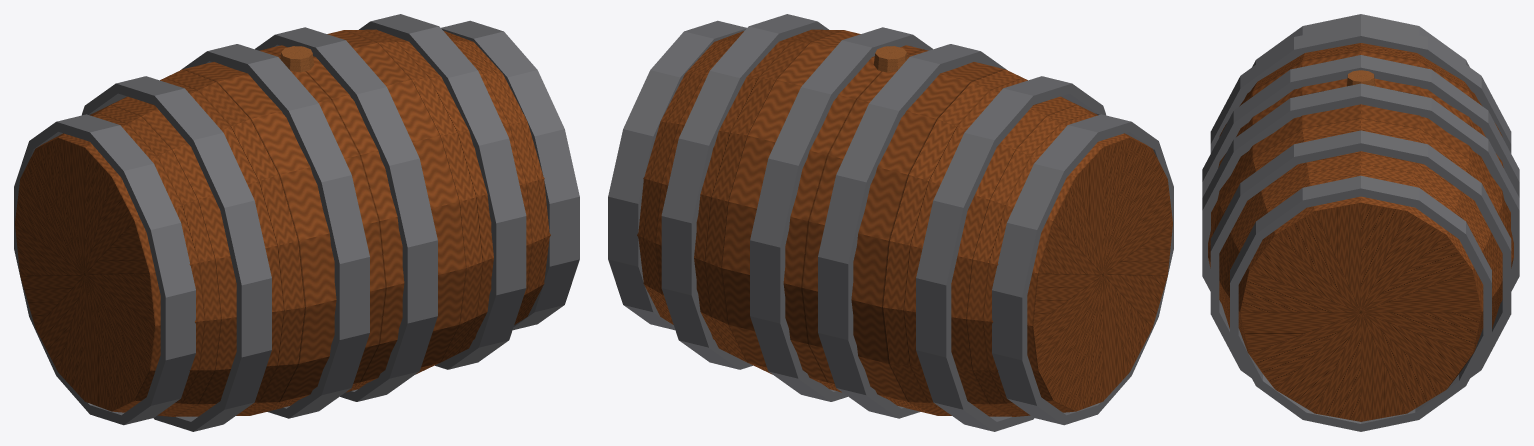
File: distillery-and-bonded-warehouse-cask-hogshead-c243d6b2__38689.glb
The picture shows the model from 3 angles, left to right: view 1: azimuth 30°, elevation 25°; view 2: azimuth 150°, elevation 25°; view 3: azimuth 270°, elevation 25°; orthographic projection. The views are drawn at different scales.
Parts seen in each view (by area): view 1: cask-hogshead-oak, cask-hogshead-iron, cask-hogshead-timber; view 2: cask-hogshead-oak, cask-hogshead-iron, cask-hogshead-timber; view 3: cask-hogshead-oak, cask-hogshead-iron, cask-hogshead-timber.
Part boxes in pixels (x1=…): cask-hogshead-oak: x1=15, y1=29, x2=550, y2=416; cask-hogshead-iron: x1=14, y1=14, x2=579, y2=431; cask-hogshead-timber: x1=280, y1=46, x2=314, y2=72; cask-hogshead-oak: x1=637, y1=29, x2=1172, y2=416; cask-hogshead-iron: x1=608, y1=14, x2=1173, y2=431; cask-hogshead-timber: x1=873, y1=46, x2=907, y2=72; cask-hogshead-oak: x1=1208, y1=43, x2=1513, y2=421; cask-hogshead-iron: x1=1202, y1=14, x2=1519, y2=431; cask-hogshead-timber: x1=1346, y1=70, x2=1375, y2=86.
Bounding box in the file's own units: 1.05 × 0.8078 × 0.7875.
Materials: 3 (2 with a texture image).
